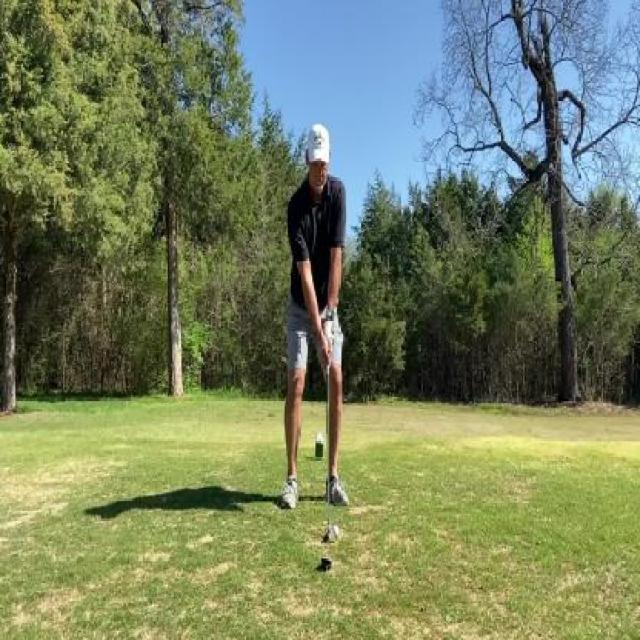club head: (322, 519, 332, 544)
